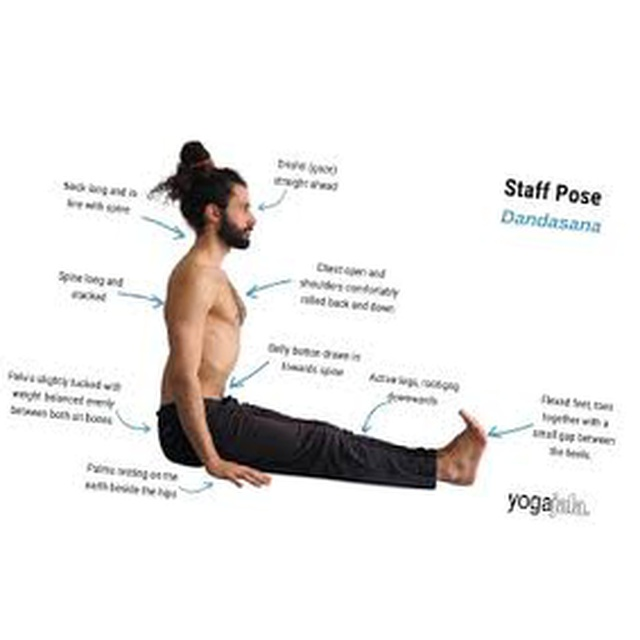Staff_Pose: (147, 140, 487, 490)
